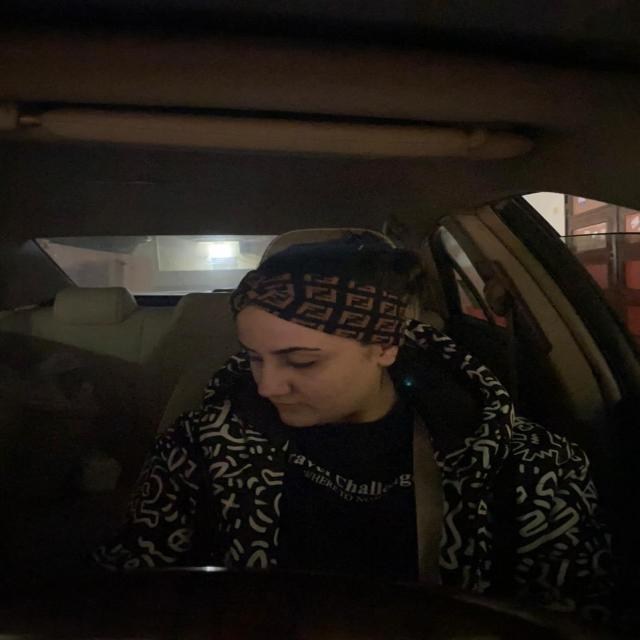drowsy: (225, 232, 434, 442)
